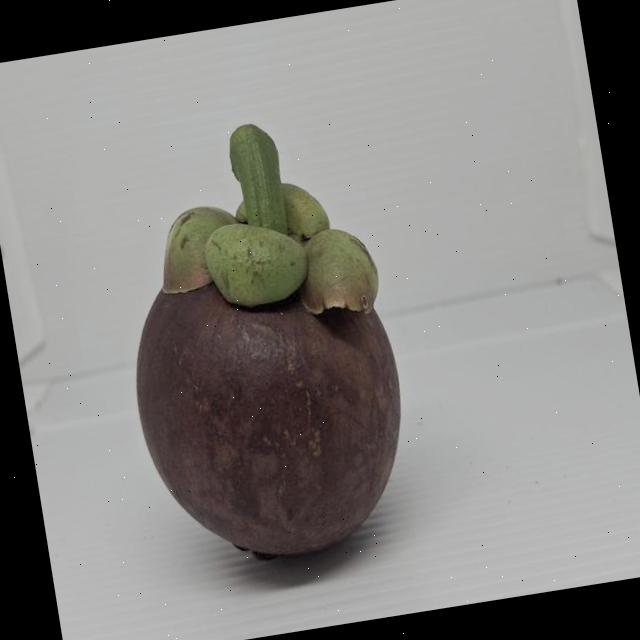mangosteen: (59, 63, 448, 617)
